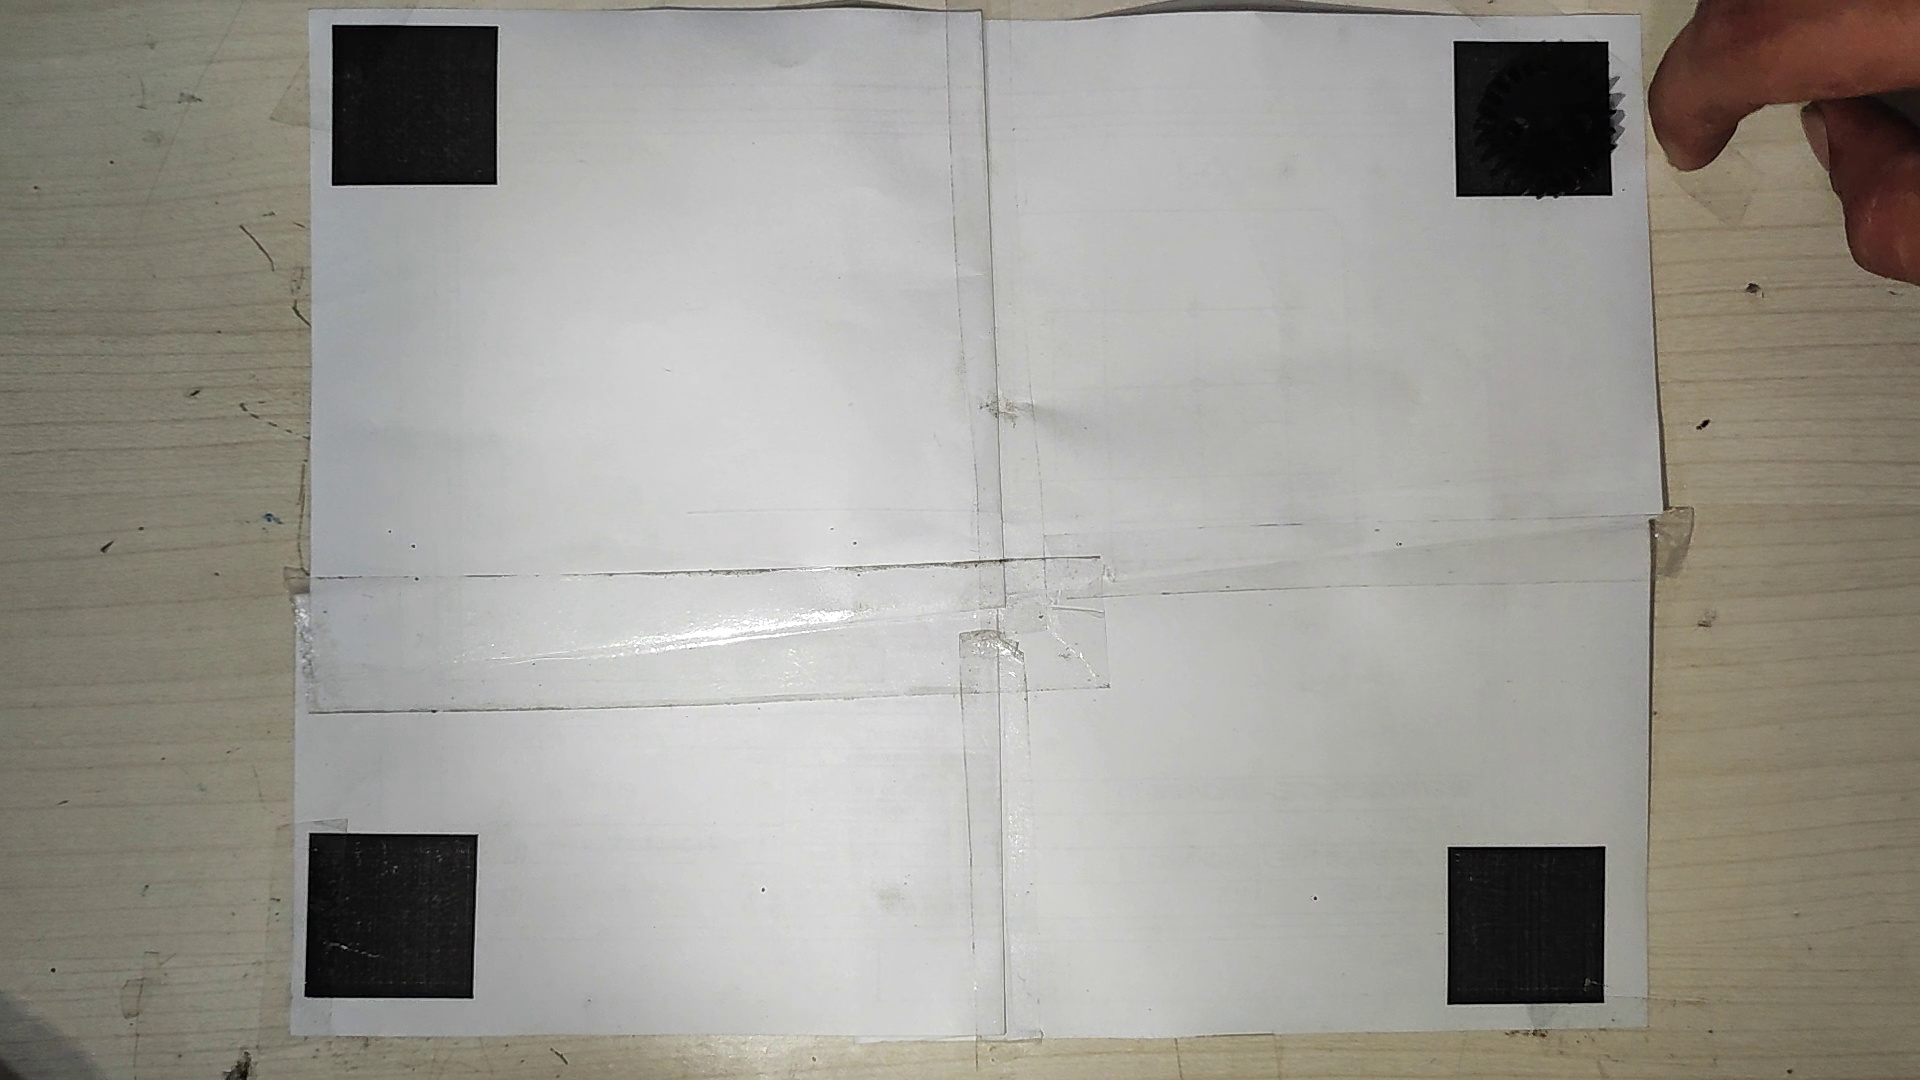Gear: (1466, 53, 1626, 200)
